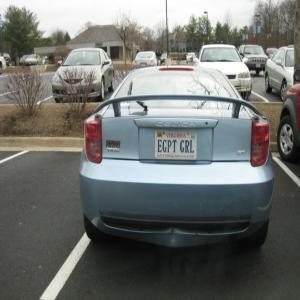Vehicle-registration-plate: (157, 128, 198, 159), (69, 89, 79, 96), (257, 64, 263, 69), (142, 64, 146, 68), (257, 65, 261, 69)
